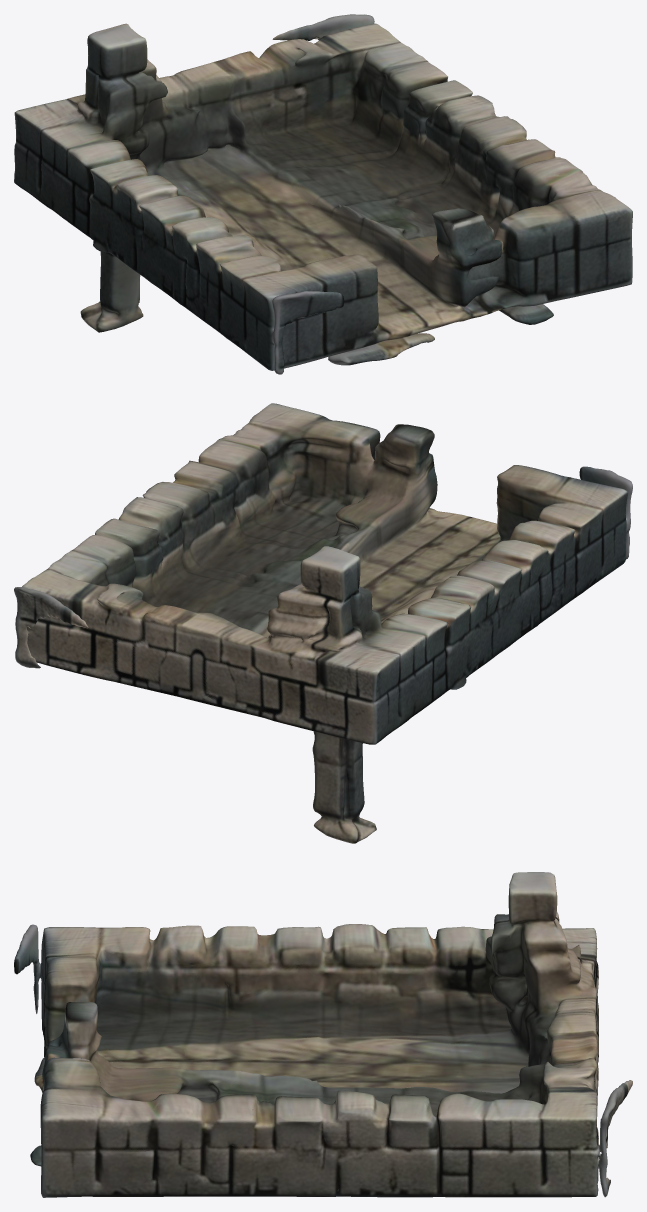
The model's file is road.glb.
3 views of the same model, one above another, from view 1: azimuth 30°, elevation 25°; view 2: azimuth 150°, elevation 25°; view 3: azimuth 270°, elevation 25° (orthographic). The views are drawn at different scales.
Parts seen in each view (by area): view 1: tripo_node_bb83f8e8-e49f-40fe-9777-4113add01895; view 2: tripo_node_bb83f8e8-e49f-40fe-9777-4113add01895; view 3: tripo_node_bb83f8e8-e49f-40fe-9777-4113add01895.
Boxes of the visible parts, x1,y1,x2,y2 form: tripo_node_bb83f8e8-e49f-40fe-9777-4113add01895: (14, 14, 632, 374); tripo_node_bb83f8e8-e49f-40fe-9777-4113add01895: (14, 403, 632, 843); tripo_node_bb83f8e8-e49f-40fe-9777-4113add01895: (14, 872, 632, 1197).
Bounding box in the file's own units: 0.6376 × 0.4655 × 0.8562.
1 material, 1 textured.
